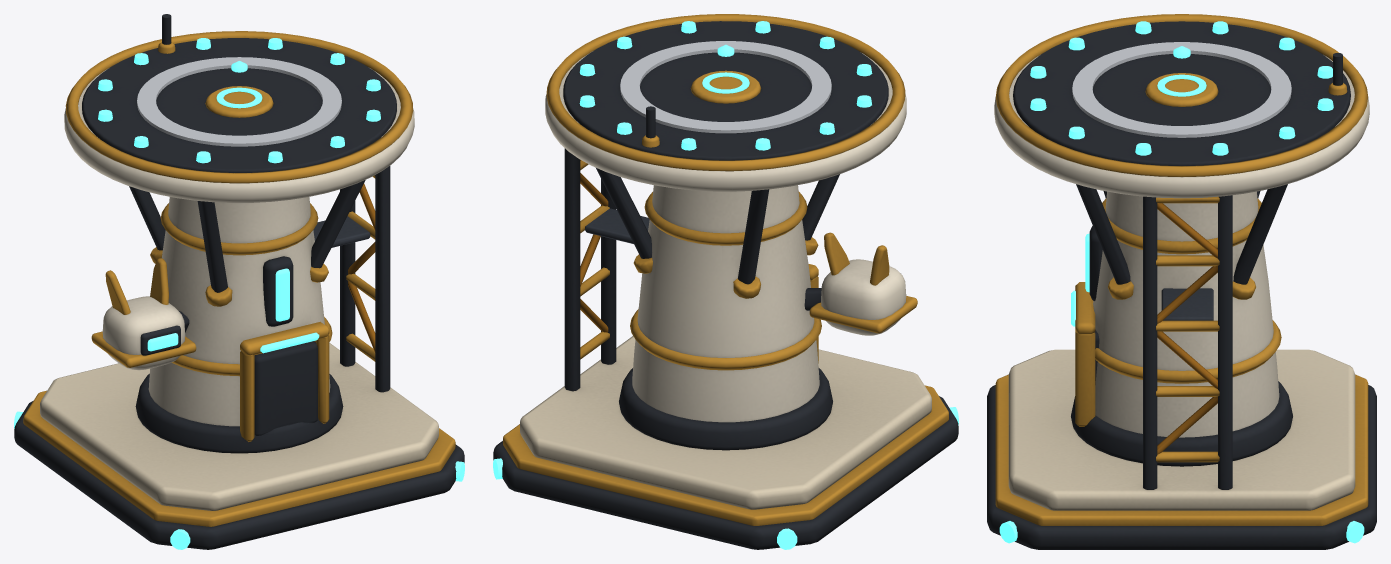
File: ambron_skyport.glb
The picture shows the model from 3 angles, left to right: view 1: azimuth 30°, elevation 25°; view 2: azimuth 150°, elevation 25°; view 3: azimuth 270°, elevation 25°; orthographic projection. The views are drawn at different scales.
Visible parts, largest first — view 1: ambron_skyport; view 2: ambron_skyport; view 3: ambron_skyport.
Part boxes in pixels (x1=…): ambron_skyport: x1=14, y1=14, x2=464, y2=549; ambron_skyport: x1=493, y1=14, x2=958, y2=549; ambron_skyport: x1=987, y1=14, x2=1376, y2=549.
Bounding box in the file's own units: 2.7 × 3.25 × 2.7.
3 materials, 1 textured.
